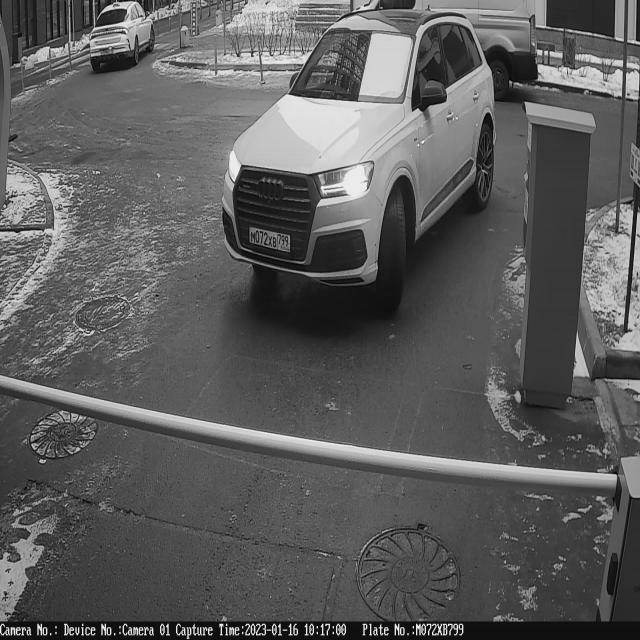car-plate-numbers: (248, 223, 294, 261)
